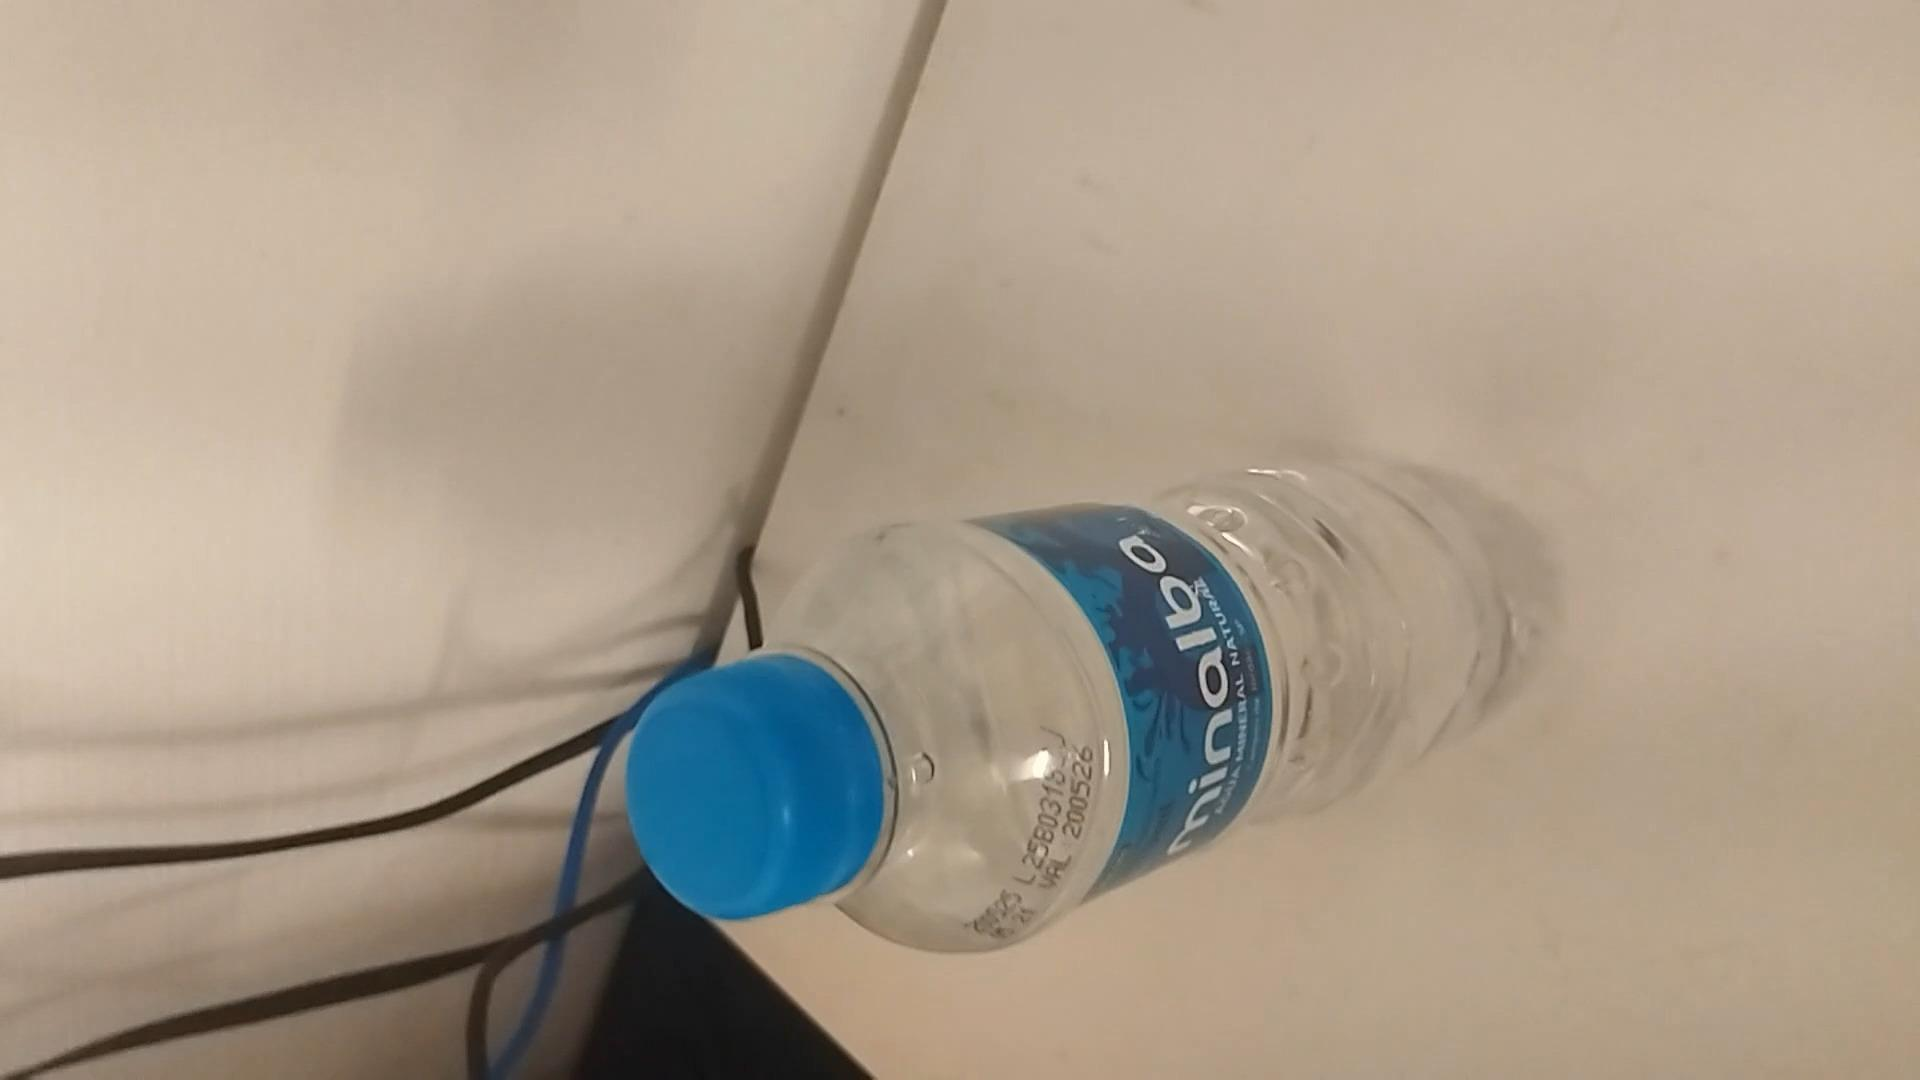agua: (636, 456, 1522, 952)
